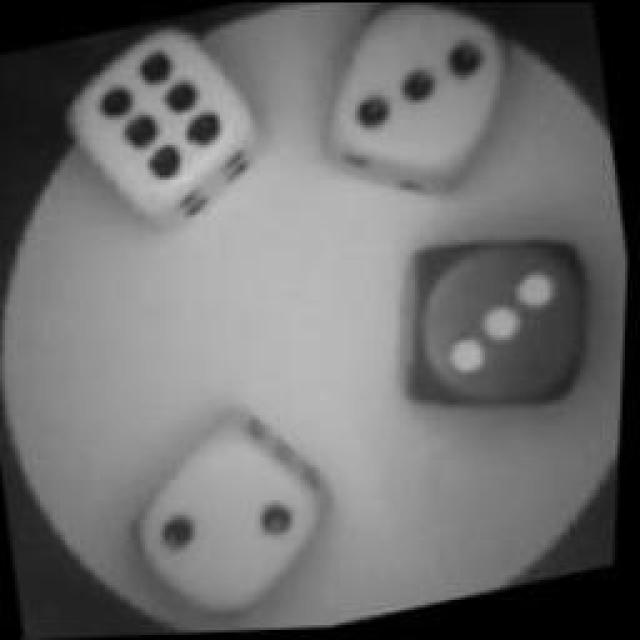dice_2: (122, 425, 350, 635)
dice_3: (297, 0, 527, 222), (390, 220, 600, 432)
dice_6: (70, 23, 260, 218)
